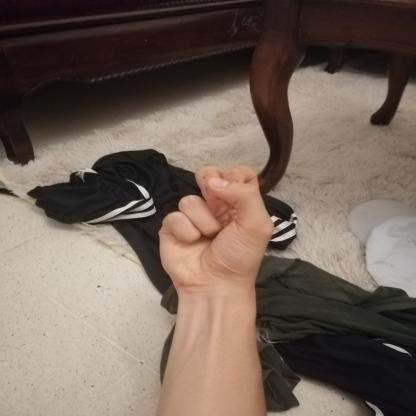QAAF: (145, 157, 286, 301)
